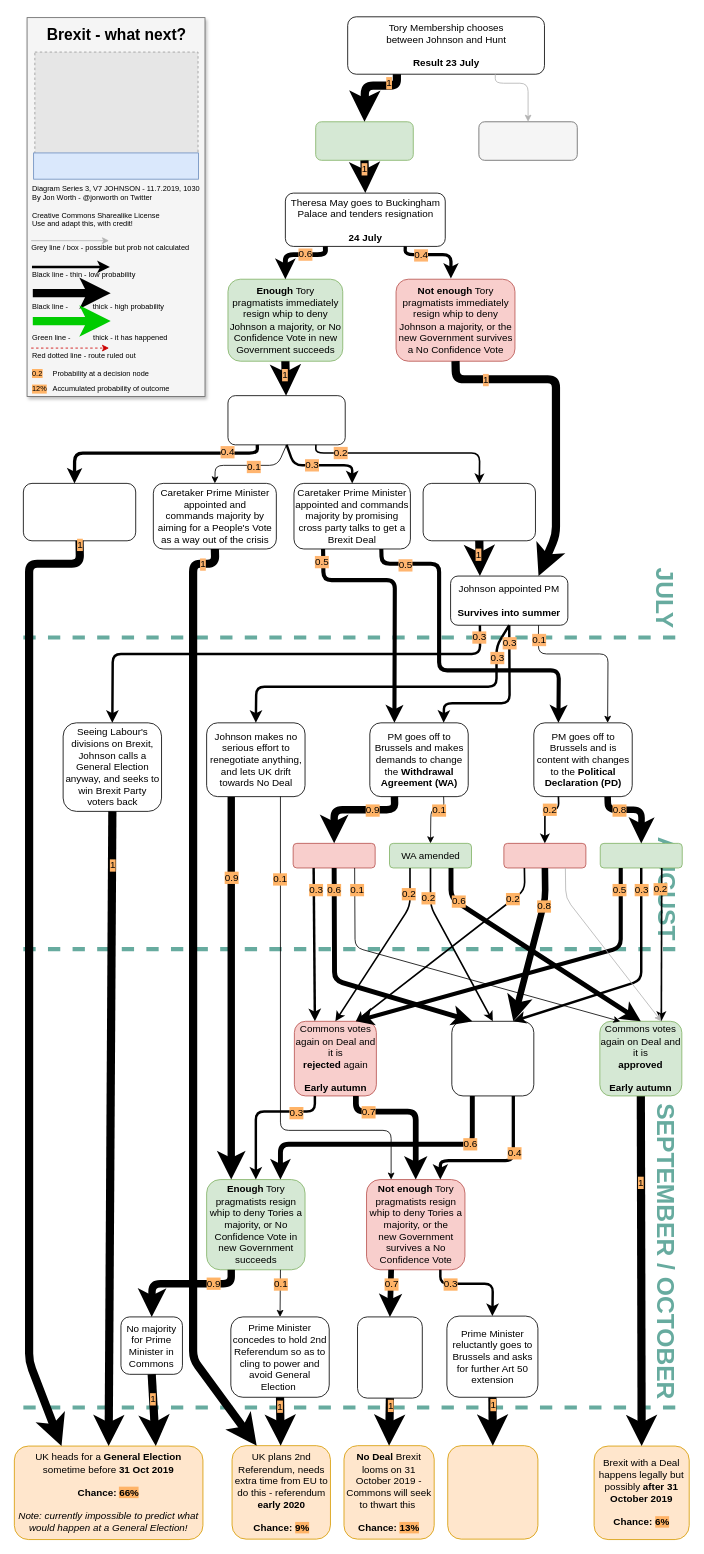
The diagram is 704 pixels wide and 1554 high, and some of its shapes have lost their labels. Grey dashed boxes stand in for pictures. Here are the shapes that lost their labels. From the top down, the centre of each, then its label:
point 364,140: Boris Johnson wins
point 527,140: Jeremy Hunt wins
point 115,165: Assuming Johnson wins
point 286,420: 14 days scramble for a solution, Commons recess postponed
point 79,512: No solution found, so election has to take place (Fixed Term Parliaments Act)
point 478,512: Johnson softens Brexit position, shows he can command confidence of House
point 333,855: WA not amended
point 544,855: PD not amended
point 640,855: PD amended
point 492,1058: No vote on any Deal happens Early autumn
point 389,1357: Prime Minister sees no route other than No Deal Brexit
point 492,1492: Further extension to Article 50 period requested by UK Chance: 6%
